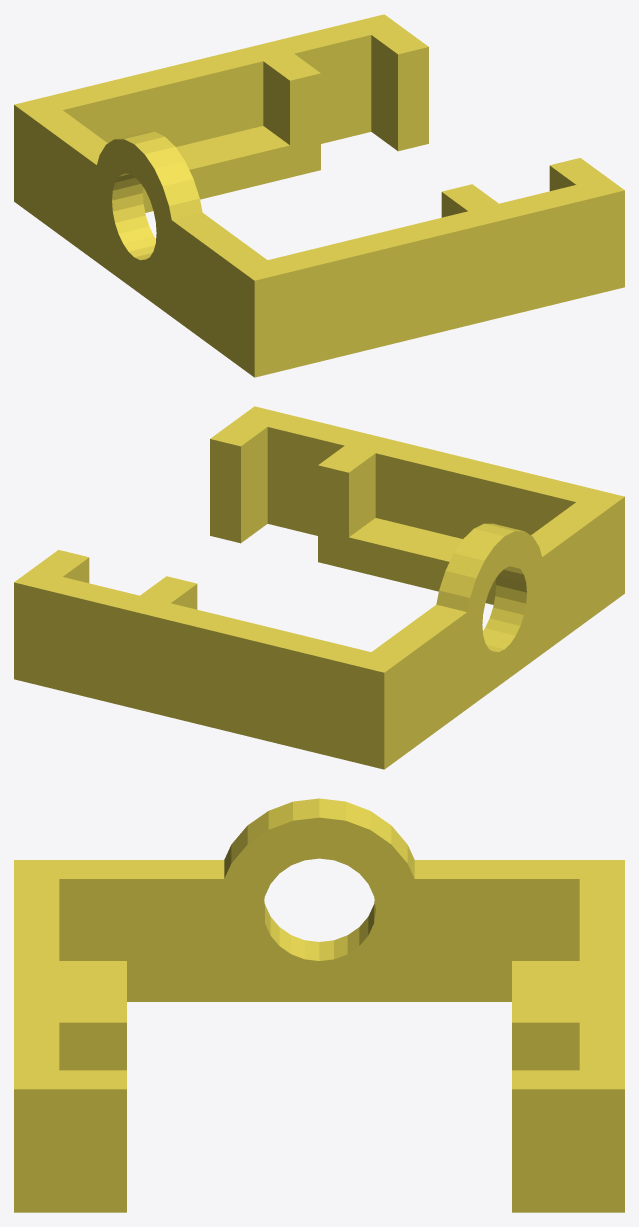
File: openscad_ceiling-mounting-bracket.glb
3 renders of one model, top to bottom at view 1: azimuth 30°, elevation 25°; view 2: azimuth 150°, elevation 25°; view 3: azimuth 270°, elevation 25°, orthographic. The views are drawn at different scales.
Parts seen in each view (by area): view 1: object; view 2: object; view 3: object.
Boxes of the visible parts, bbox=[...] form: object: bbox=[14, 14, 624, 377]; object: bbox=[14, 406, 624, 769]; object: bbox=[14, 798, 624, 1212].
Bounding box in the file's own units: 24 × 9 × 27.
